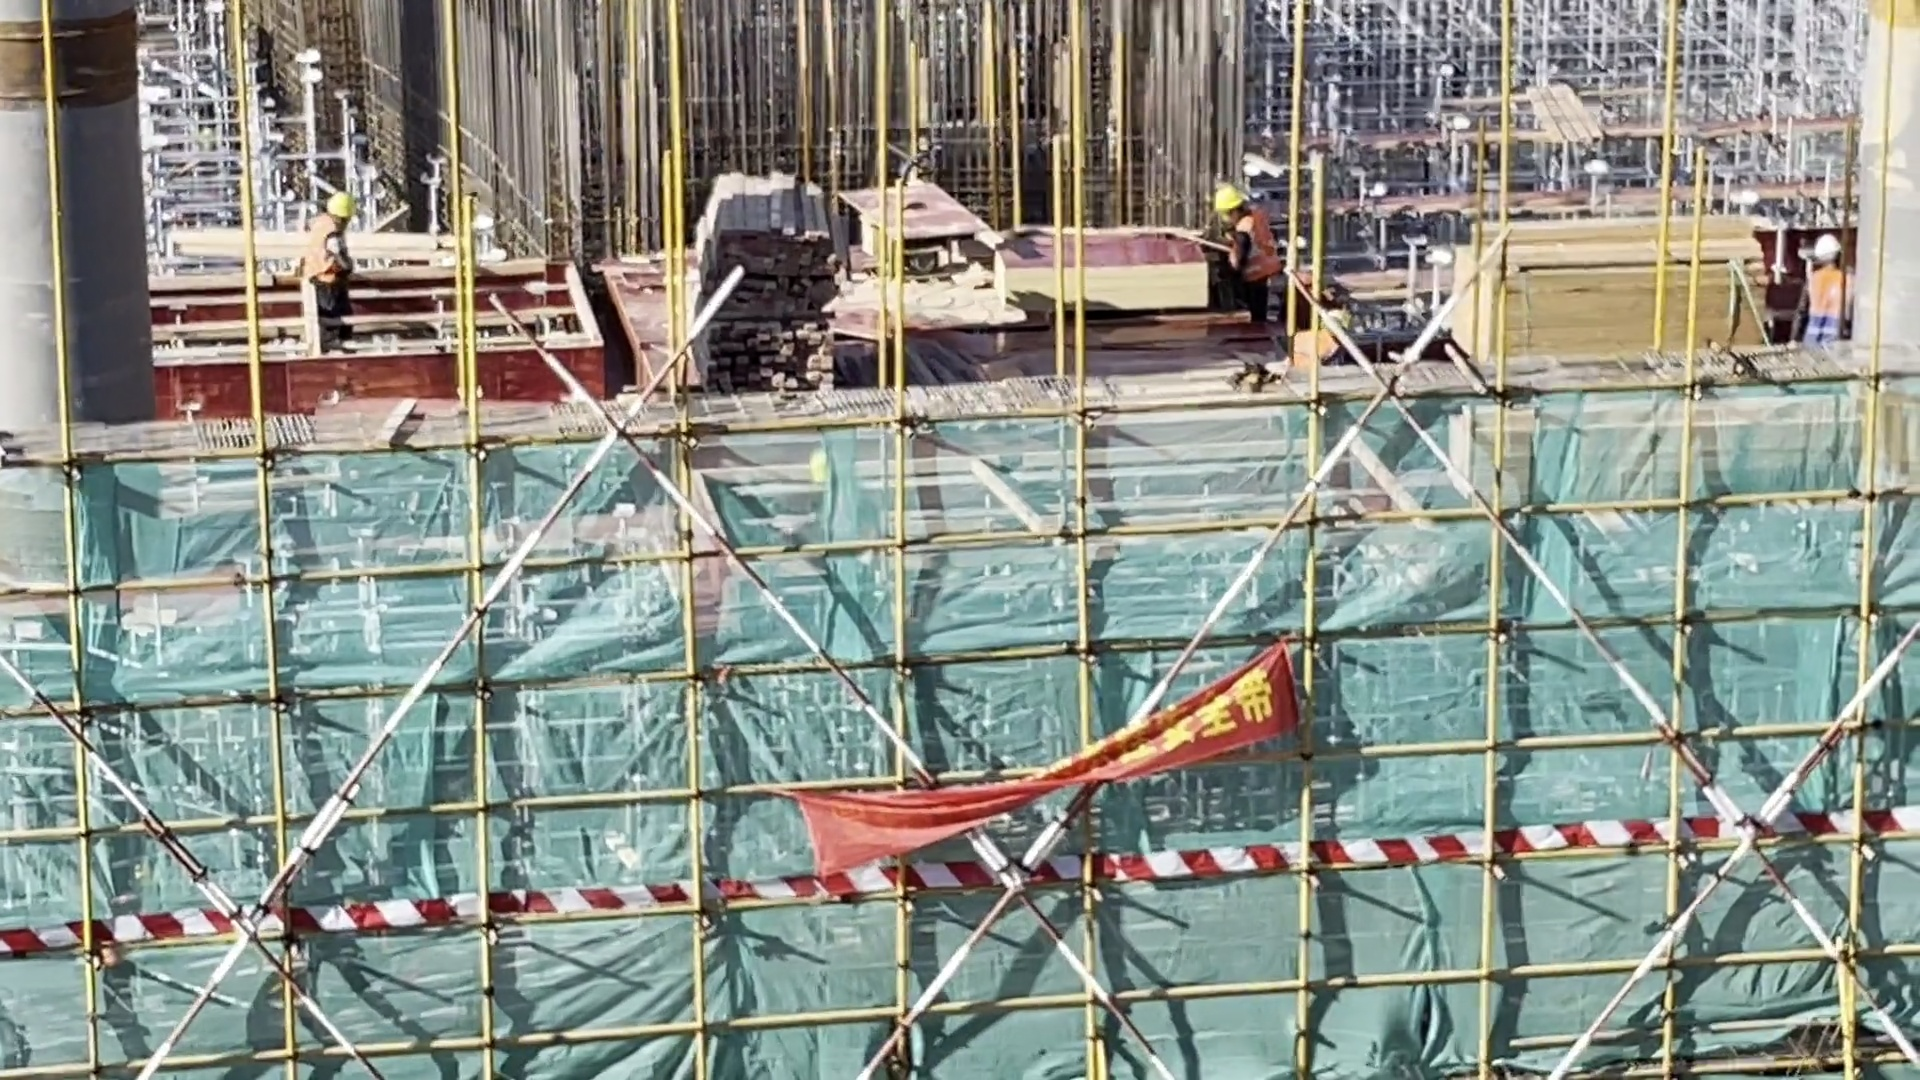helmet: (1201, 182, 1263, 215), (318, 183, 360, 217), (1807, 231, 1847, 264)
person: (1195, 178, 1293, 360), (295, 179, 396, 356), (1800, 216, 1859, 357)
vest: (1804, 256, 1862, 348), (1228, 205, 1278, 287), (301, 213, 348, 294)
